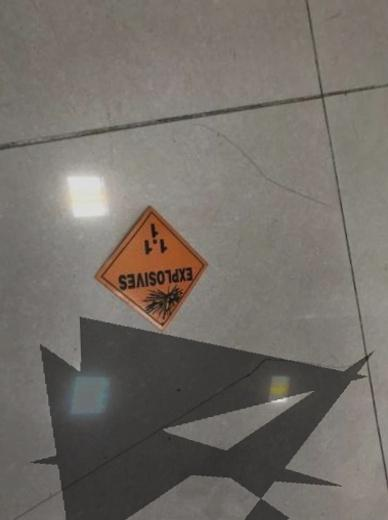explosive: (92, 202, 207, 336)
